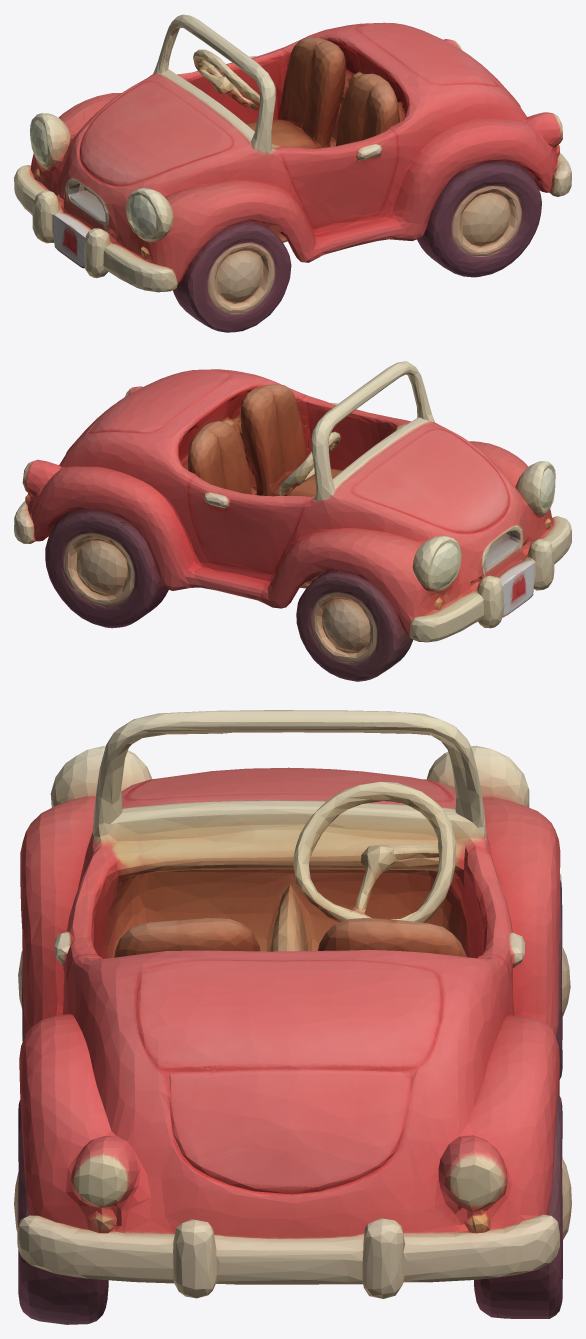
The model's file is car.glb.
The picture shows the model from 3 angles, top to bottom: view 1: azimuth 30°, elevation 25°; view 2: azimuth 150°, elevation 25°; view 3: azimuth 270°, elevation 25°; orthographic projection. The views are drawn at different scales.
Parts seen in each view (by area): view 1: geometry_0; view 2: geometry_0; view 3: geometry_0.
Boxes of the visible parts, <box> form: geometry_0: <box>14,14,571,332</box>; geometry_0: <box>14,361,571,681</box>; geometry_0: <box>14,710,571,1324</box>.
Bounding box in the file's own units: 0.9987 × 0.4766 × 0.5623.
1 material, 1 textured.
